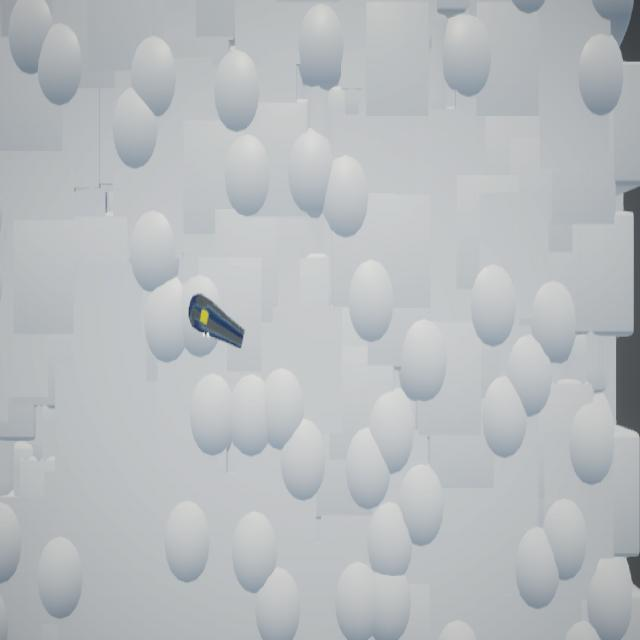handle_knife: (189, 294, 246, 350)
